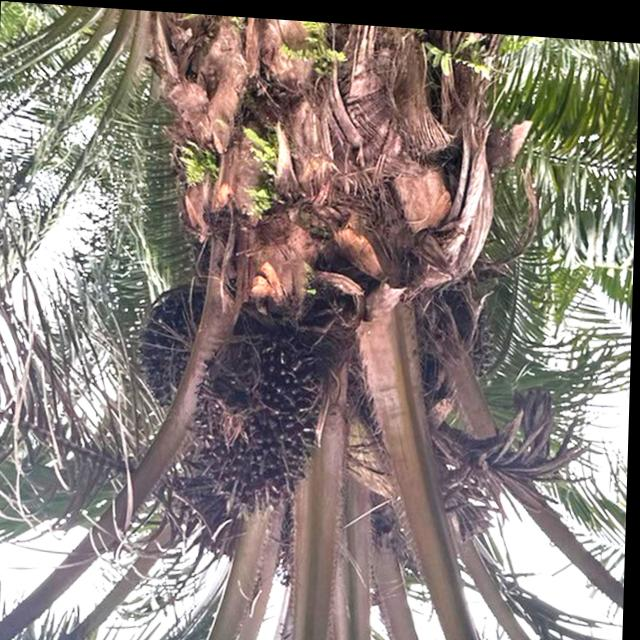ripe: (185, 309, 337, 531)
